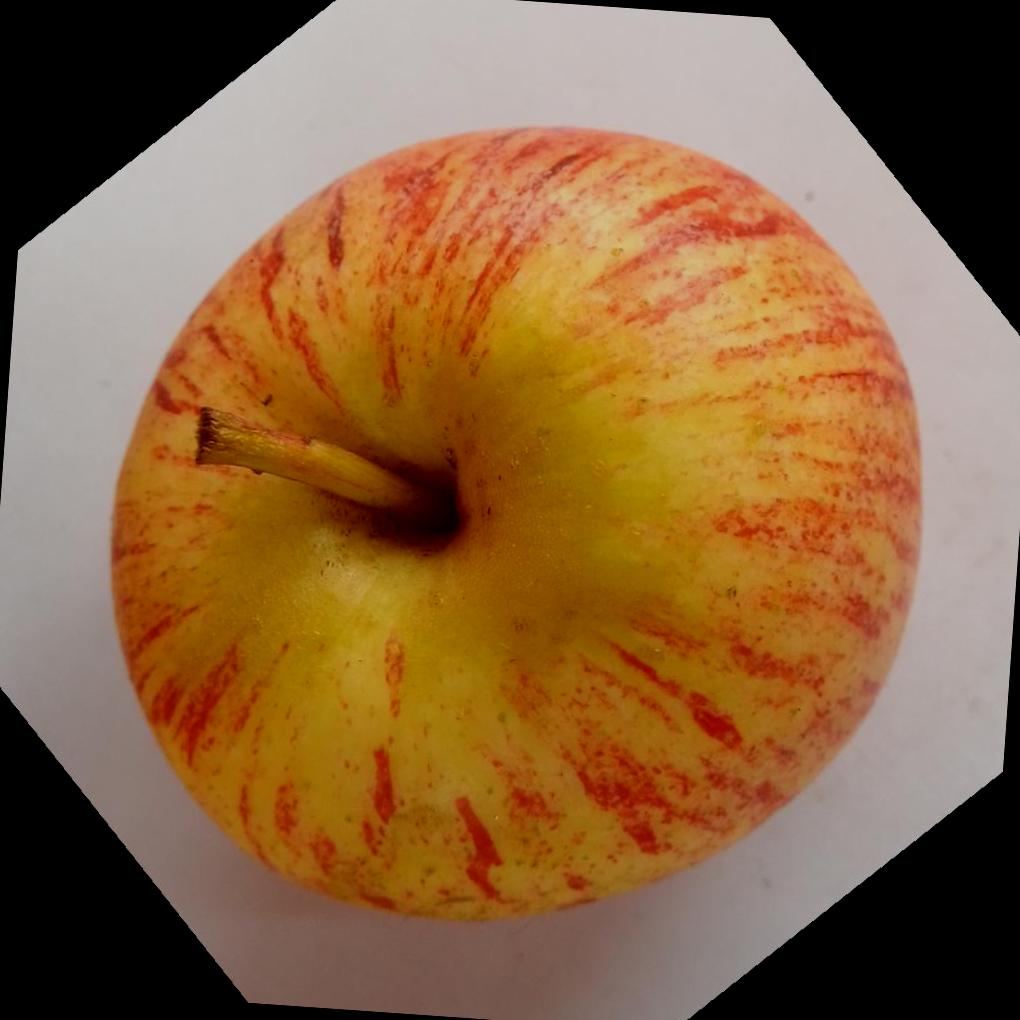FreshGuava: (107, 120, 930, 922)
